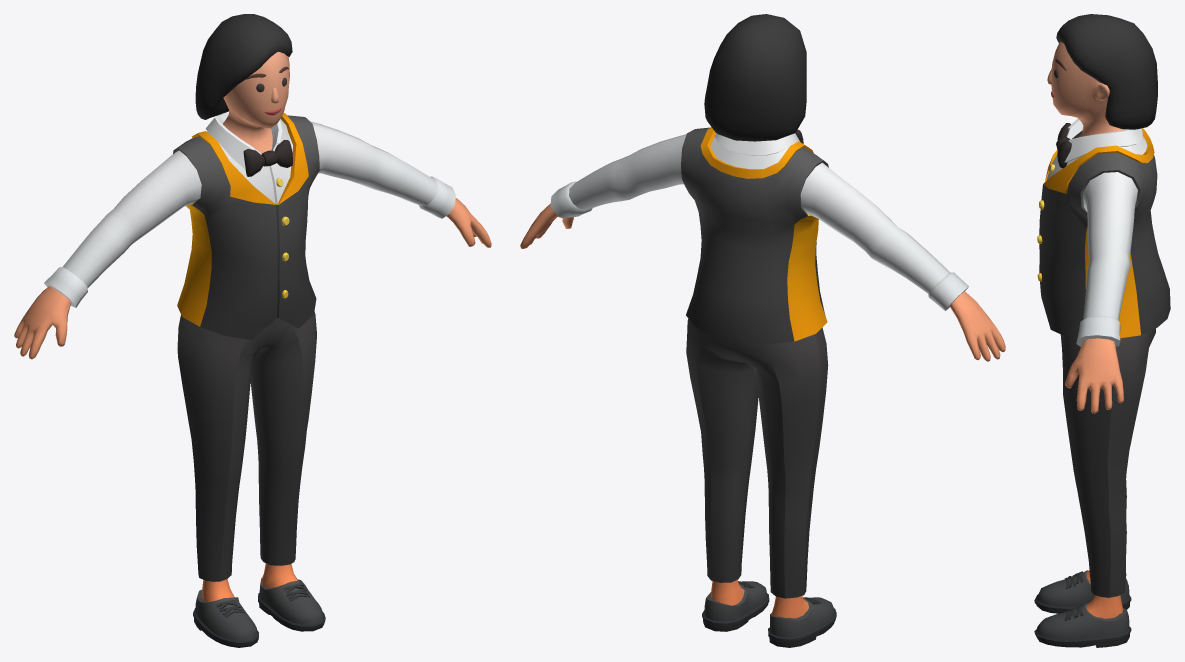
The model's file is 1_Cashier.obj.
3 renders of one model, left to right at view 1: azimuth 30°, elevation 25°; view 2: azimuth 150°, elevation 25°; view 3: azimuth 270°, elevation 25°, orthographic.
Parts seen in each view (by area): view 1: Adult_Female_Cashier_Shirt, Adult_Female_Cashier_Pants, Adult_Female_Cashier_Body, Adult_Female_Cashier_Hairstyle, Adult_Female_Cashier_Shoes; view 2: Adult_Female_Cashier_Shirt, Adult_Female_Cashier_Pants, Adult_Female_Cashier_Hairstyle, Adult_Female_Cashier_Body, Adult_Female_Cashier_Shoes; view 3: Adult_Female_Cashier_Shirt, Adult_Female_Cashier_Pants, Adult_Female_Cashier_Hairstyle, Adult_Female_Cashier_Body, Adult_Female_Cashier_Shoes.
Part boxes in pixels (left/top/right/bottom): Adult_Female_Cashier_Shirt: left=44, top=112, right=455, bottom=339; Adult_Female_Cashier_Pants: left=177, top=311, right=316, bottom=581; Adult_Female_Cashier_Body: left=14, top=51, right=491, bottom=602; Adult_Female_Cashier_Hairstyle: left=195, top=14, right=292, bottom=119; Adult_Female_Cashier_Shoes: left=193, top=578, right=325, bottom=647; Adult_Female_Cashier_Shirt: left=550, top=127, right=968, bottom=343; Adult_Female_Cashier_Pants: left=686, top=319, right=828, bottom=598; Adult_Female_Cashier_Hairstyle: left=704, top=14, right=806, bottom=141; Adult_Female_Cashier_Body: left=520, top=203, right=1005, bottom=618; Adult_Female_Cashier_Shoes: left=702, top=581, right=836, bottom=647; Adult_Female_Cashier_Shirt: left=1037, top=118, right=1170, bottom=346; Adult_Female_Cashier_Pants: left=1060, top=328, right=1155, bottom=597; Adult_Female_Cashier_Hairstyle: left=1056, top=14, right=1157, bottom=129; Adult_Female_Cashier_Body: left=1047, top=41, right=1125, bottom=618; Adult_Female_Cashier_Shoes: left=1034, top=570, right=1131, bottom=647.
Bounding box in the file's own units: 1.43 × 1.75 × 0.3581.
1 material, 1 textured.
